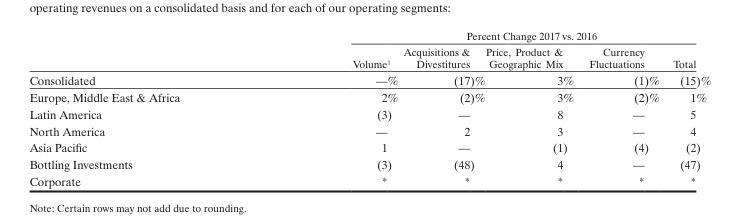table: (28, 29, 710, 188)
table column: (28, 29, 265, 188), (265, 29, 400, 188), (484, 29, 580, 188), (580, 29, 665, 188), (400, 29, 484, 188), (665, 29, 710, 188)
table column header: (28, 29, 710, 70)
table row: (28, 43, 710, 70), (28, 70, 710, 88), (28, 104, 710, 121), (28, 121, 710, 138), (28, 138, 710, 155), (28, 155, 710, 172), (28, 88, 710, 104), (28, 172, 710, 188), (28, 29, 710, 43)
table spanning cell: (265, 29, 710, 43)
